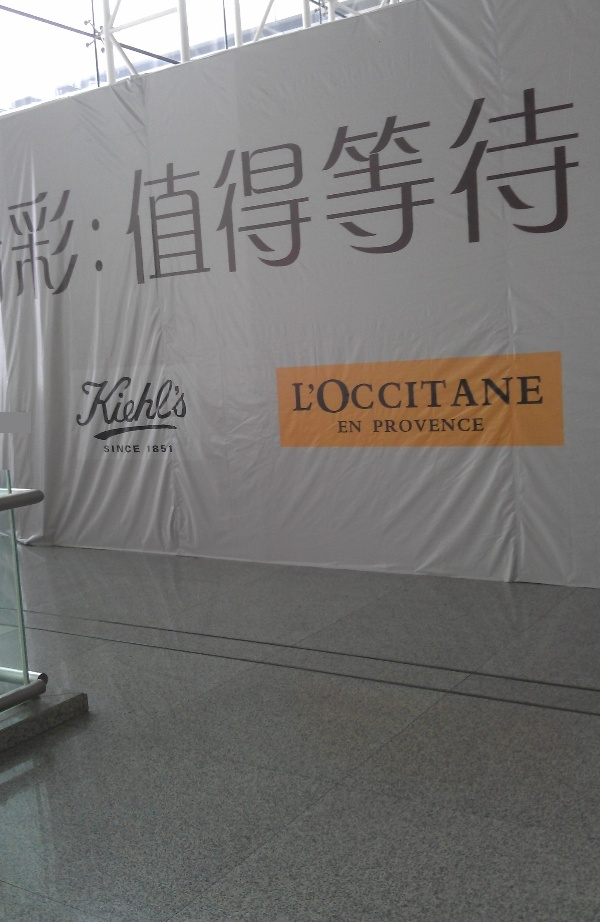text: (1, 76, 16, 300), (17, 76, 32, 300), (33, 76, 48, 300), (49, 76, 64, 300), (65, 76, 80, 300), (81, 76, 96, 300), (97, 76, 112, 300), (113, 76, 128, 300), (129, 76, 144, 300), (145, 76, 160, 300), (161, 76, 176, 300), (177, 76, 192, 300), (193, 76, 208, 300), (209, 76, 224, 300), (225, 76, 240, 300), (241, 76, 256, 300), (257, 76, 272, 300), (273, 76, 288, 300), (289, 76, 304, 300), (305, 76, 320, 300), (321, 76, 336, 300), (337, 76, 352, 300), (353, 76, 368, 300), (369, 76, 384, 300), (385, 76, 400, 300), (401, 76, 416, 300), (417, 76, 432, 300), (433, 76, 448, 300), (449, 76, 464, 300), (465, 76, 480, 300), (481, 76, 496, 300), (497, 76, 512, 300), (513, 76, 528, 300), (529, 76, 544, 300), (545, 76, 560, 300), (561, 76, 576, 300), (577, 76, 584, 300), (81, 373, 96, 430), (97, 373, 112, 430), (113, 373, 128, 430), (129, 373, 144, 430), (145, 373, 160, 430), (161, 373, 176, 430), (177, 373, 191, 430), (529, 370, 545, 418), (289, 370, 304, 418), (305, 370, 320, 418), (321, 370, 336, 418), (337, 370, 352, 418), (353, 370, 368, 418), (369, 370, 384, 418), (385, 370, 400, 418), (401, 370, 416, 418), (417, 370, 432, 418), (433, 370, 448, 418), (449, 370, 464, 418), (465, 370, 480, 418), (481, 370, 496, 418), (497, 370, 512, 418), (513, 370, 528, 418), (73, 373, 80, 430), (385, 416, 400, 434), (401, 416, 416, 434), (417, 416, 432, 434), (433, 416, 448, 434), (449, 416, 464, 434), (465, 416, 480, 434), (372, 416, 384, 434), (338, 419, 352, 433), (353, 419, 363, 433), (113, 445, 128, 454), (129, 445, 142, 454), (147, 445, 160, 453), (161, 445, 174, 453), (481, 416, 485, 434), (104, 445, 112, 454)
